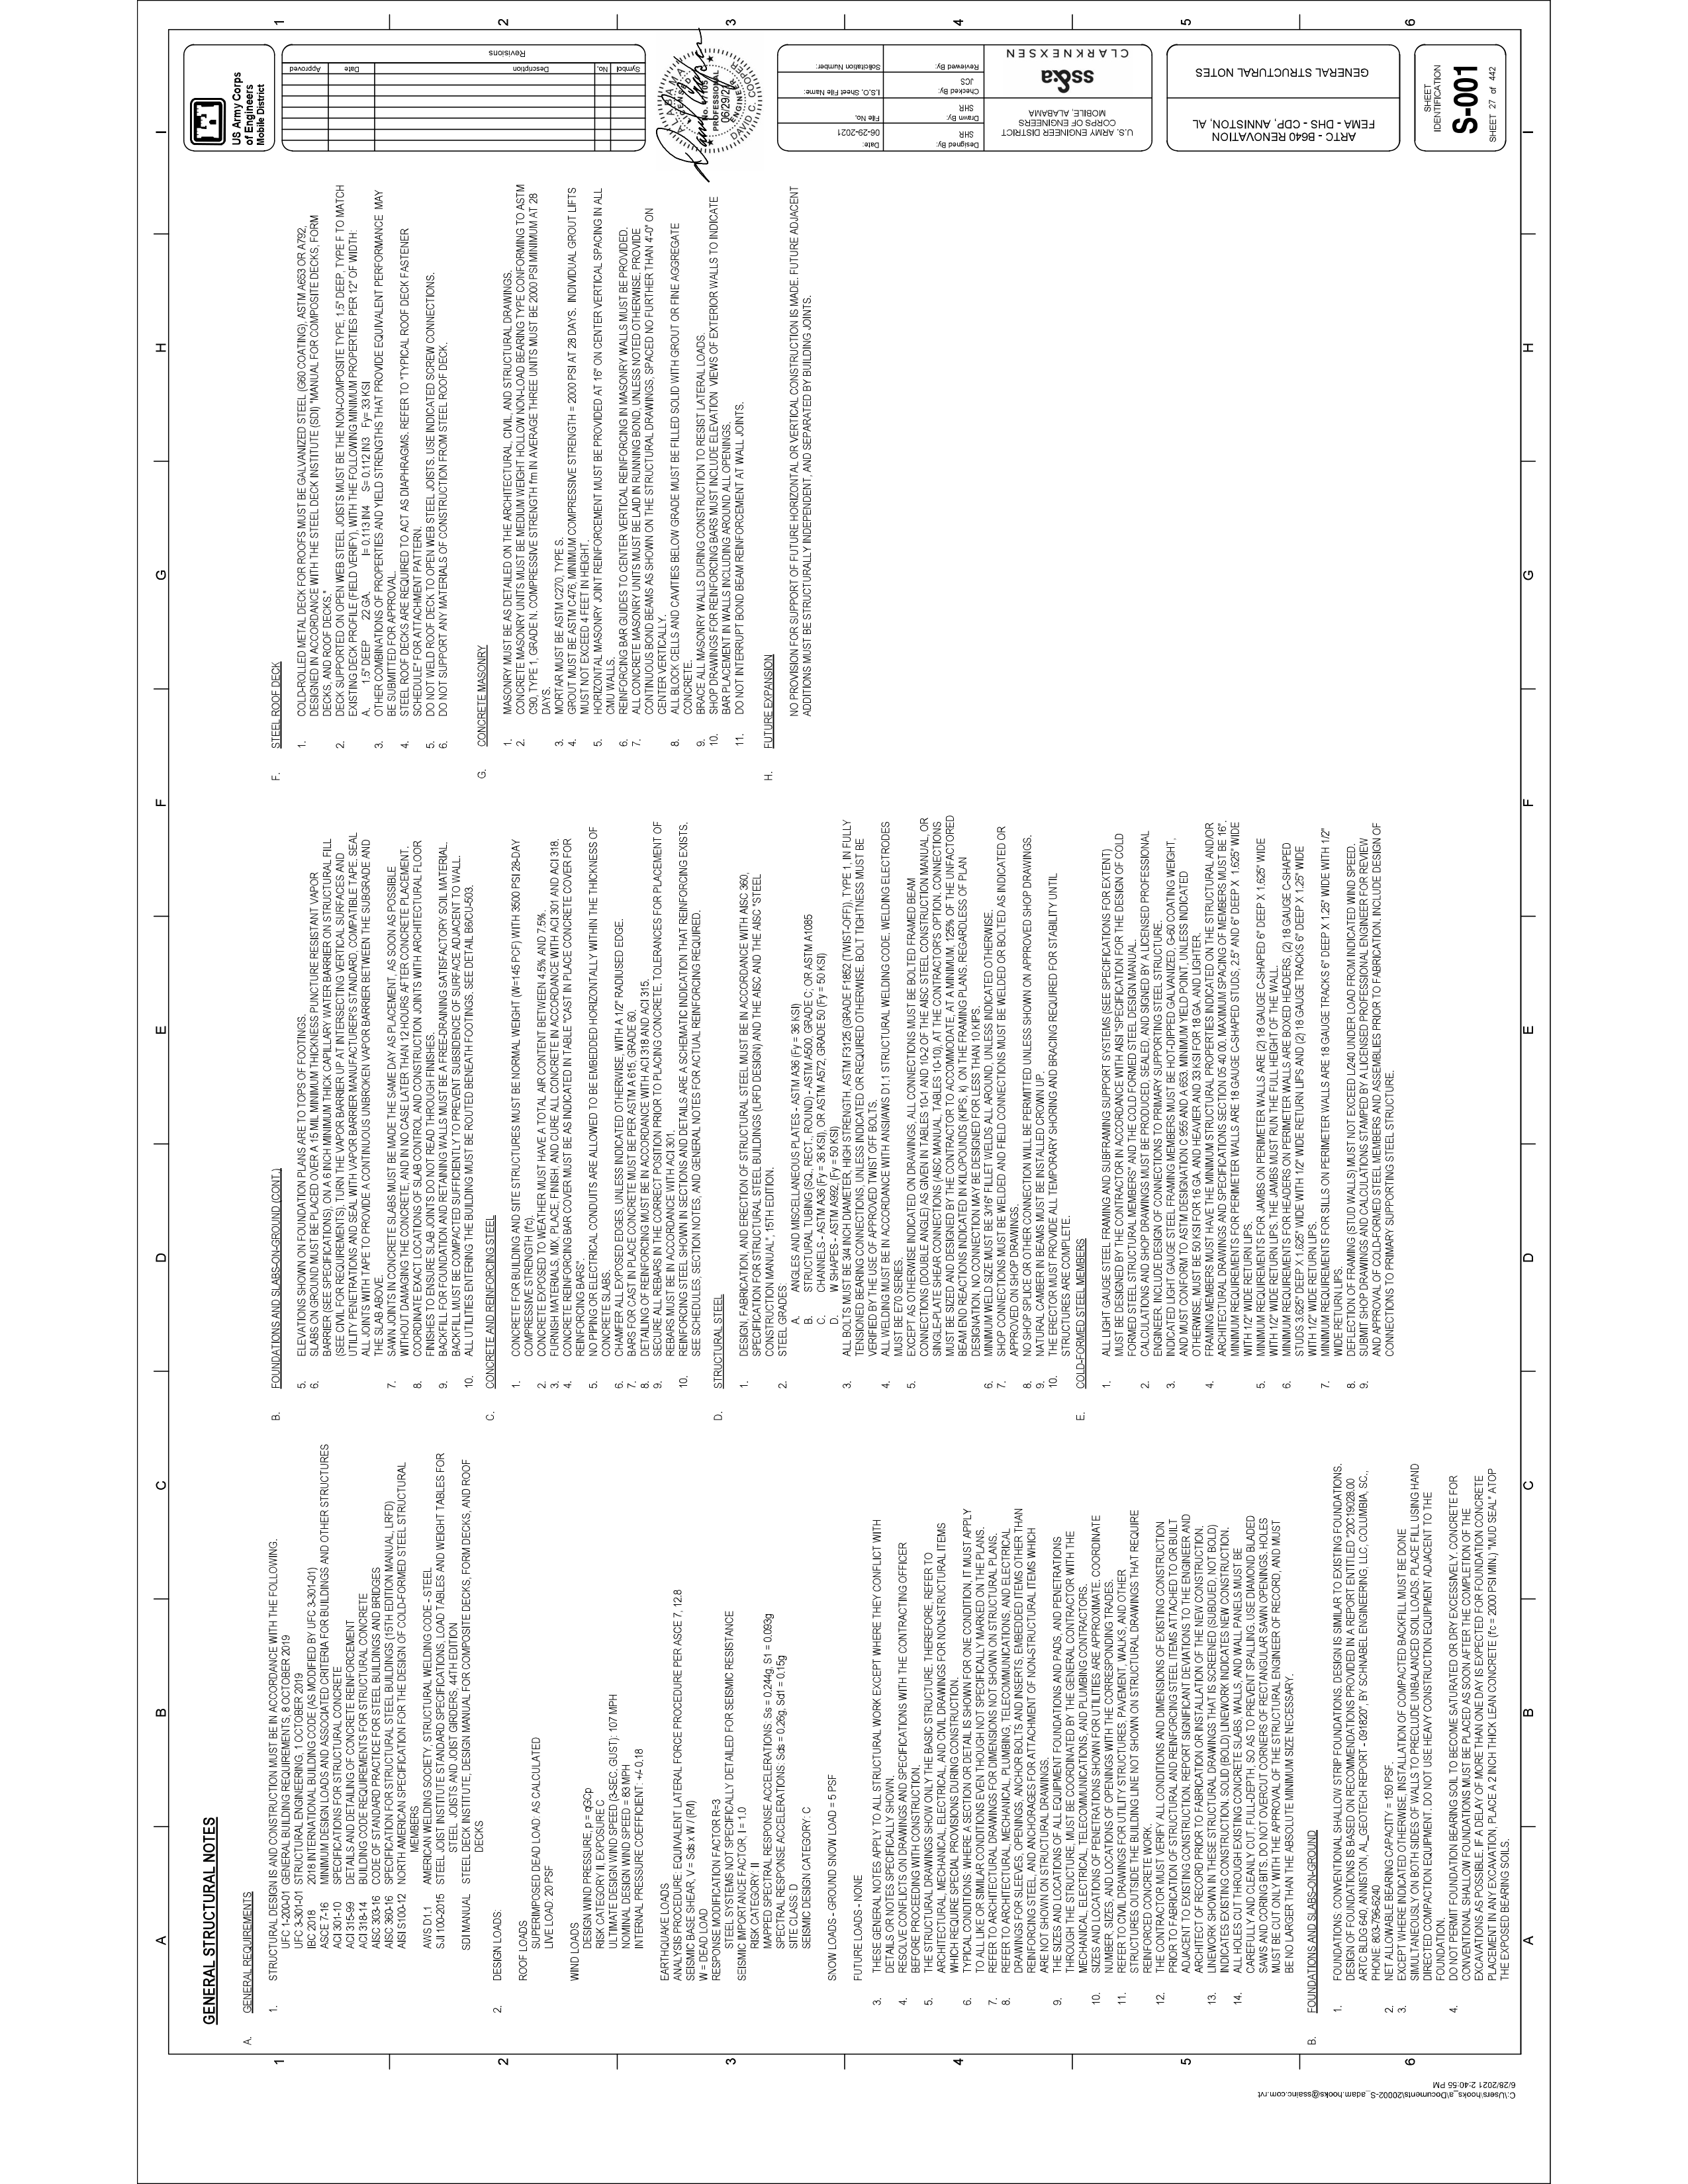detail: (257, 640, 344, 729), (785, 1110, 842, 1168), (426, 886, 481, 941), (598, 1840, 651, 1895), (176, 89, 227, 140), (363, 1555, 415, 1606), (427, 1707, 479, 1759), (1388, 1677, 1440, 1728), (261, 1790, 310, 1840), (261, 1698, 310, 1748), (261, 1821, 310, 1870), (1250, 1712, 1300, 1762), (1250, 1689, 1300, 1739), (496, 358, 546, 408), (1094, 938, 1142, 986), (261, 1775, 309, 1821), (495, 615, 541, 661), (1325, 1737, 1371, 1783), (1456, 1700, 1502, 1746), (1390, 1656, 1436, 1702), (1342, 840, 1388, 885), (303, 941, 348, 986), (1342, 1014, 1387, 1057), (436, 1057, 479, 1099), (707, 1801, 748, 1840), (608, 1831, 647, 1870), (413, 682, 450, 720), (1099, 1037, 1135, 1074), (1099, 1161, 1128, 1191), (1339, 998, 1367, 1028), (195, 1854, 222, 1879), (261, 1250, 285, 1273), (1243, 1516, 1262, 1535)
title: (1094, 1172, 1144, 1232)
